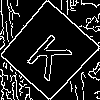K: (24, 25, 81, 82)
